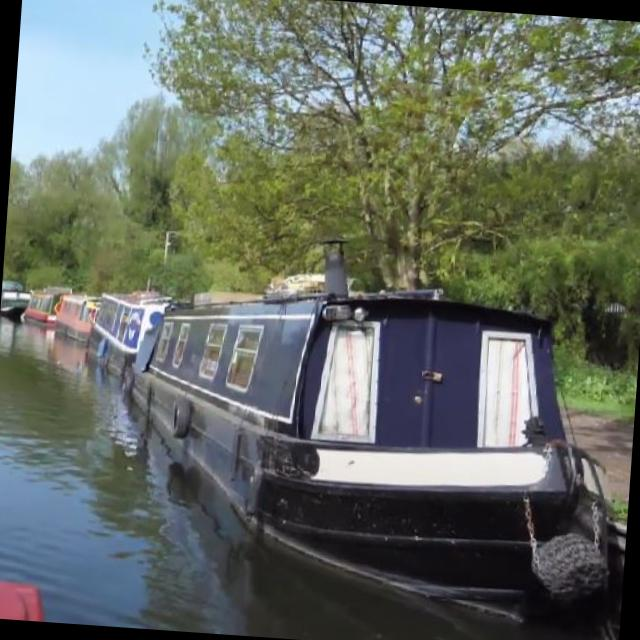boat: (137, 293, 629, 622)
